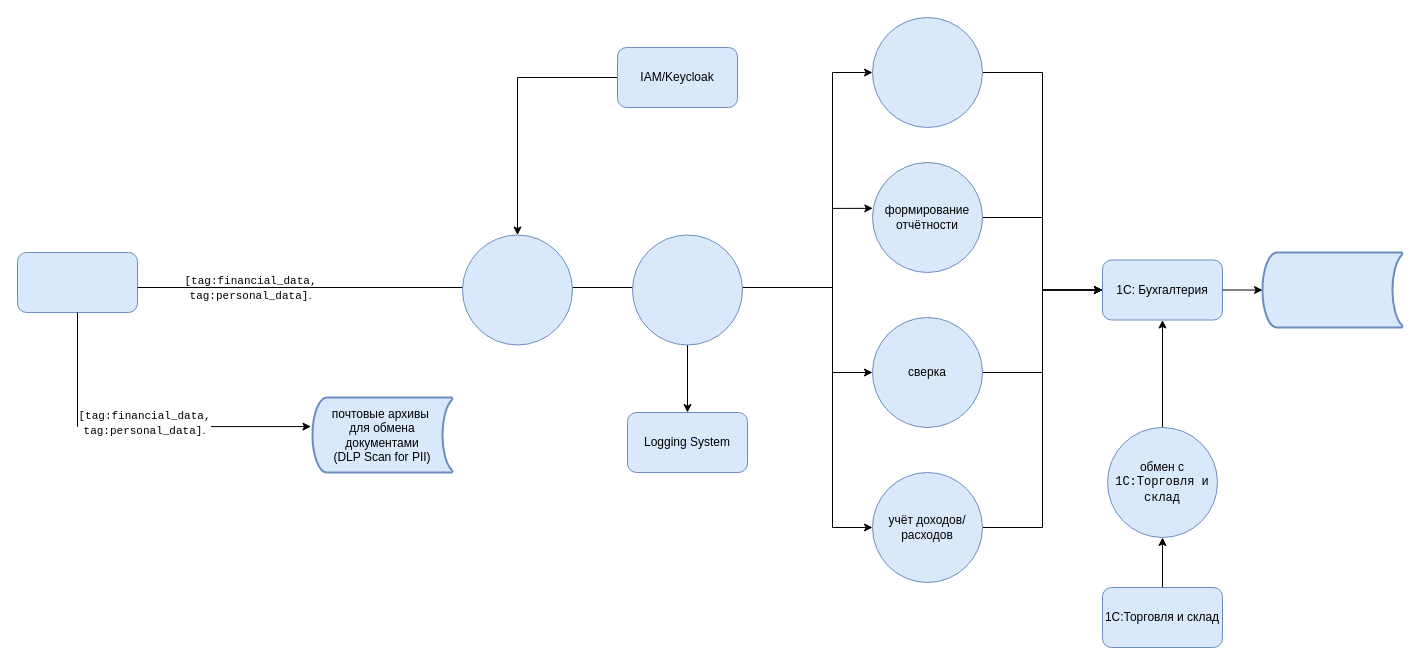
This 1421x665 diagram has some shape labels left out. The shapes that lost their labels are listed below. From the top down, each one's centre as x and y in pixels, then its label:
At pixel 927 72: "зарплаты/налоги".
At pixel 77 282: "Bookkeeper".
At pixel 517 289: "Ограничивает доступ на основе роли".
At pixel 687 289: "Audit log".
At pixel 1332 289: "1С:Бухгалтерия [file] ( Backup & DR )".
